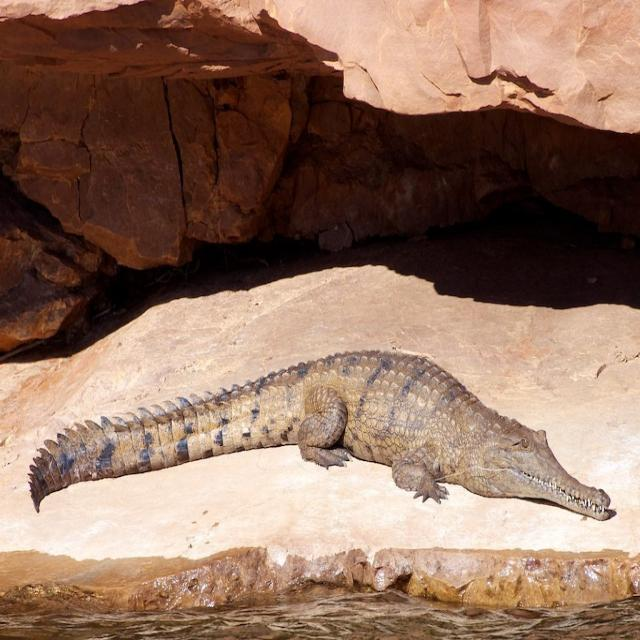crocodile: (24, 354, 614, 523)
